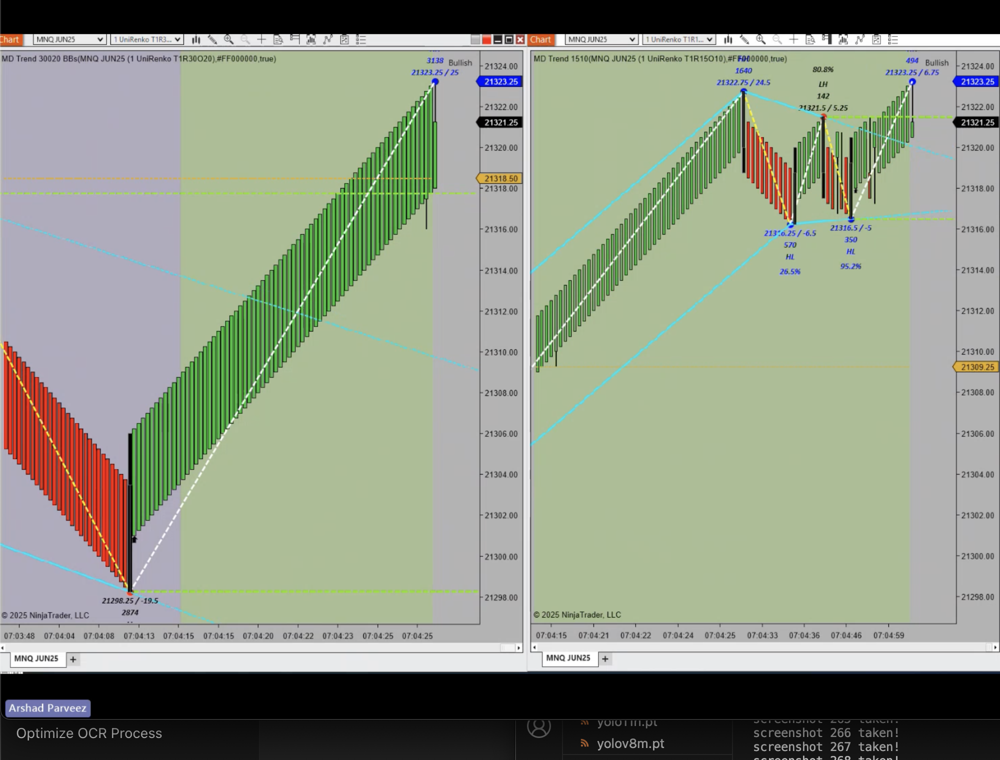HL: (779, 247, 803, 267), (841, 245, 866, 264)
LH: (803, 75, 835, 93)
